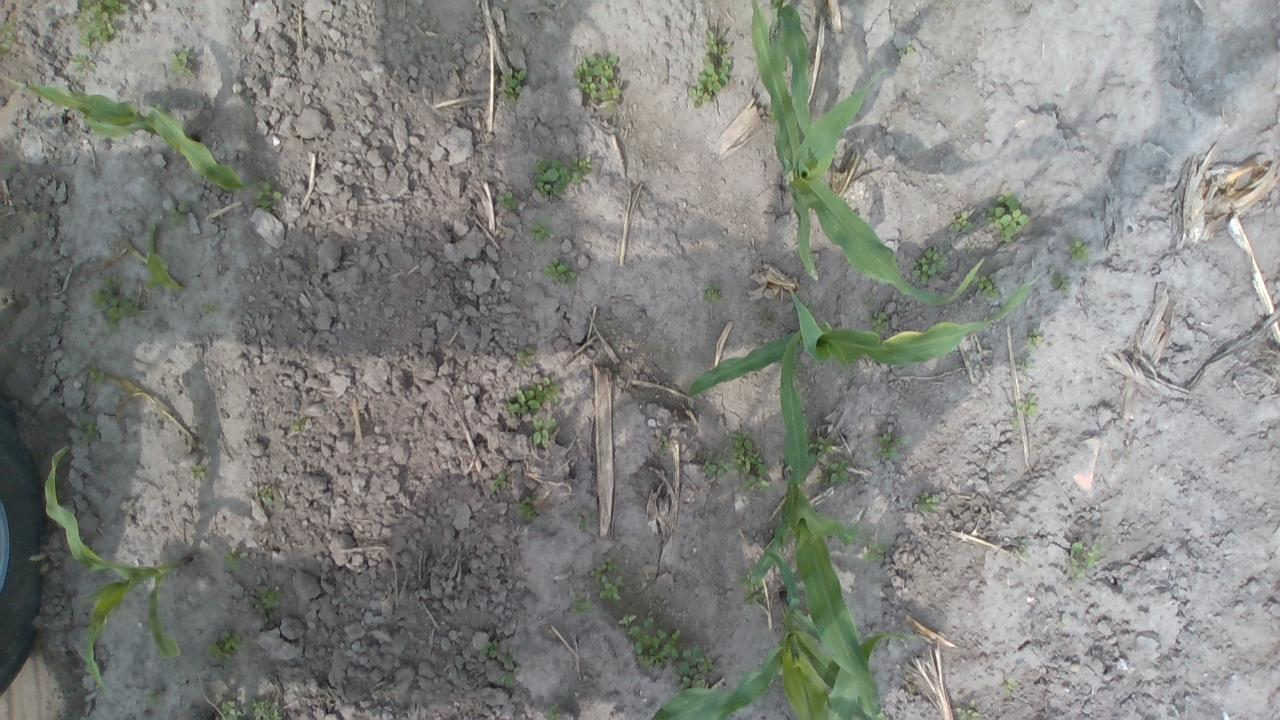Maize: (750, 0, 986, 309), (750, 329, 882, 720), (651, 548, 912, 720), (688, 281, 1036, 399), (44, 445, 191, 690), (7, 77, 255, 192), (769, 0, 812, 141)
Weeds: (620, 608, 681, 672), (686, 29, 733, 108), (89, 274, 144, 336), (571, 50, 625, 112), (143, 222, 184, 295), (726, 431, 772, 492), (76, 0, 128, 49), (532, 155, 592, 197), (984, 192, 1030, 244), (505, 377, 562, 417), (671, 640, 716, 690), (591, 558, 625, 601), (1069, 542, 1103, 582), (911, 248, 948, 284), (207, 630, 240, 663), (252, 178, 283, 212), (877, 432, 912, 462), (499, 68, 528, 104), (806, 436, 833, 471), (542, 256, 578, 282), (72, 415, 100, 444), (738, 574, 761, 608), (222, 546, 250, 573), (248, 699, 284, 720), (532, 417, 556, 448), (245, 590, 282, 610), (971, 274, 1000, 299), (823, 459, 849, 486), (702, 453, 728, 480), (168, 47, 193, 75), (70, 54, 96, 80), (80, 360, 106, 385), (948, 210, 977, 232), (515, 496, 539, 521), (0, 20, 17, 54), (528, 216, 552, 240), (1068, 238, 1089, 264), (862, 542, 888, 562), (516, 345, 536, 369), (1016, 398, 1040, 418), (168, 203, 190, 224), (572, 591, 593, 613), (220, 701, 244, 720), (871, 310, 888, 336), (496, 190, 518, 210), (1024, 328, 1042, 352), (703, 282, 721, 304), (1014, 536, 1030, 560), (918, 494, 938, 513), (478, 640, 498, 658), (576, 510, 594, 529), (543, 702, 561, 720), (191, 464, 209, 481), (1052, 274, 1070, 290), (200, 301, 219, 316), (500, 670, 514, 688), (957, 708, 977, 720), (143, 688, 160, 702), (489, 474, 506, 488), (1003, 679, 1017, 694), (502, 654, 515, 670), (1016, 359, 1032, 371), (792, 354, 804, 368), (658, 441, 669, 456), (864, 294, 877, 306), (902, 46, 914, 55), (262, 494, 272, 504), (1012, 418, 1019, 430)
